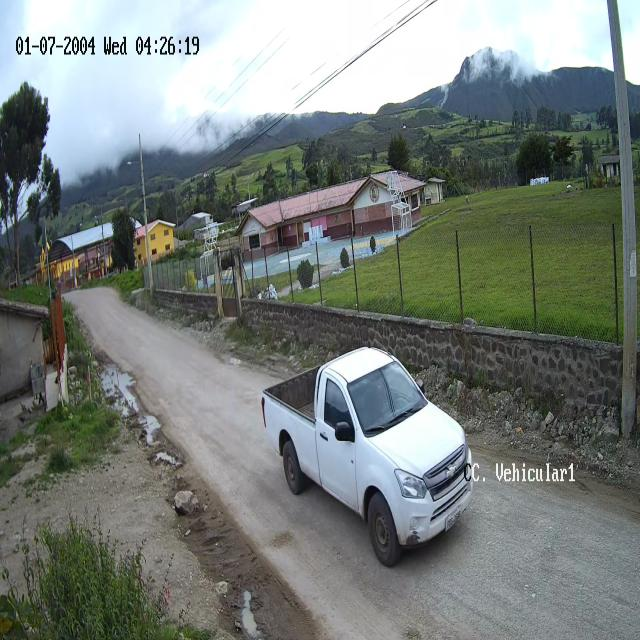CMT: (260, 348, 475, 568)
